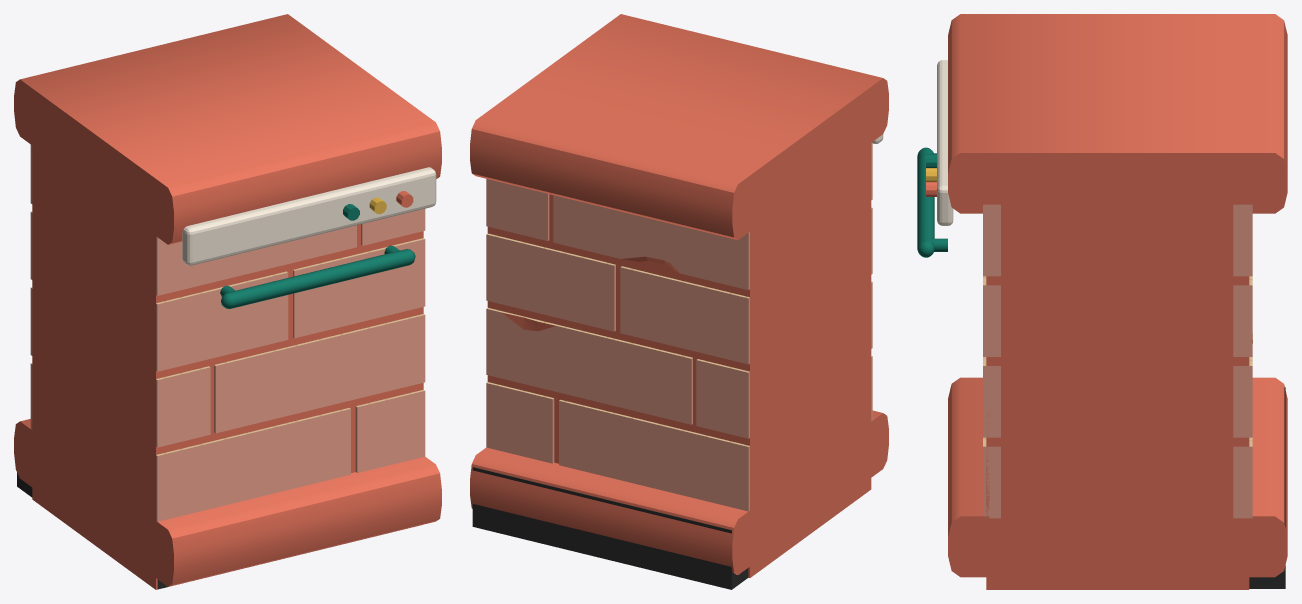
The model's file is dishwasher_c.glb.
The picture shows the model from 3 angles, left to right: view 1: azimuth 30°, elevation 25°; view 2: azimuth 150°, elevation 25°; view 3: azimuth 270°, elevation 25°; orthographic projection. The views are drawn at different scales.
Visible parts, largest first — view 1: body; view 2: body; view 3: body.
Boxes of the visible parts, bbox=[...] form: body: bbox=[14, 14, 441, 589]; body: bbox=[470, 14, 888, 589]; body: bbox=[917, 14, 1287, 589].
Size of the model in its own units: 0.6 by 0.88 by 0.676.
7 materials, 1 textured.
